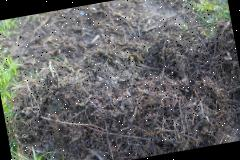organic: (86, 53, 164, 117), (0, 42, 24, 84)
